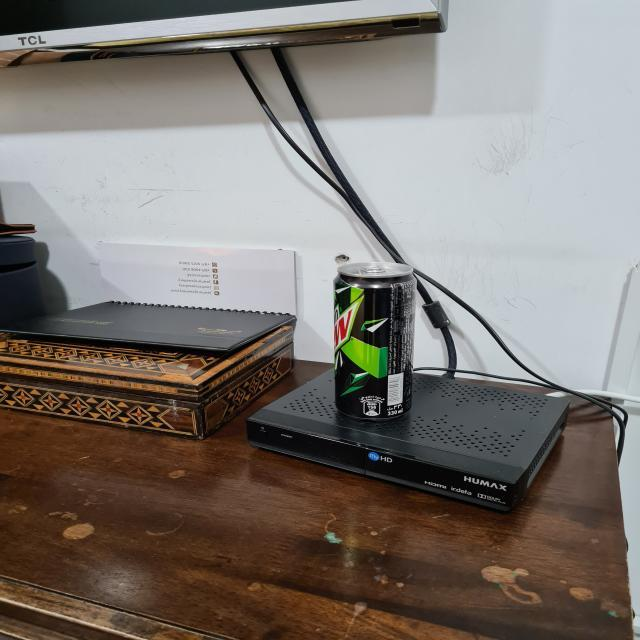can: (324, 260, 420, 420)
